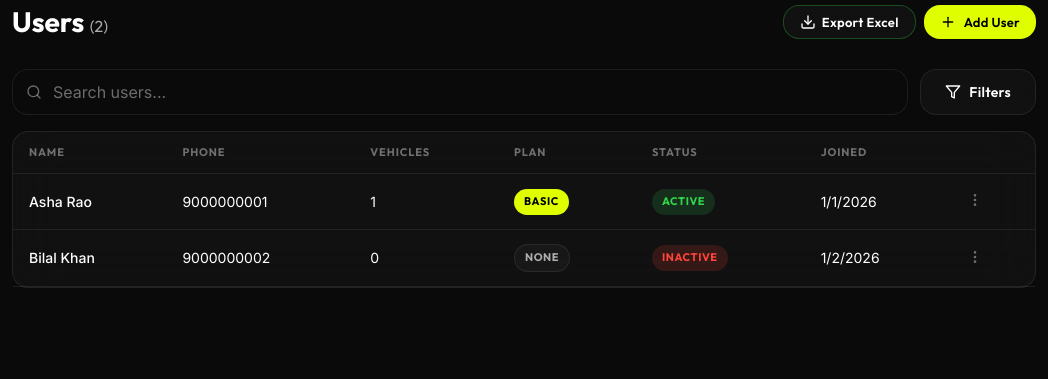
Test case: Admin Users — action menu spacing (bugs 25/29) › renders menu items using the gap-10 utility between icon and label
Expected: the text "Asha Rao" is shown, 13,174 -> 166,230
// Open the row action menu (the MoreVertical trigger is the last button in the row)
Click the button without text in the row of "Asha Rao": click(975, 202) 963,188 -> 987,215
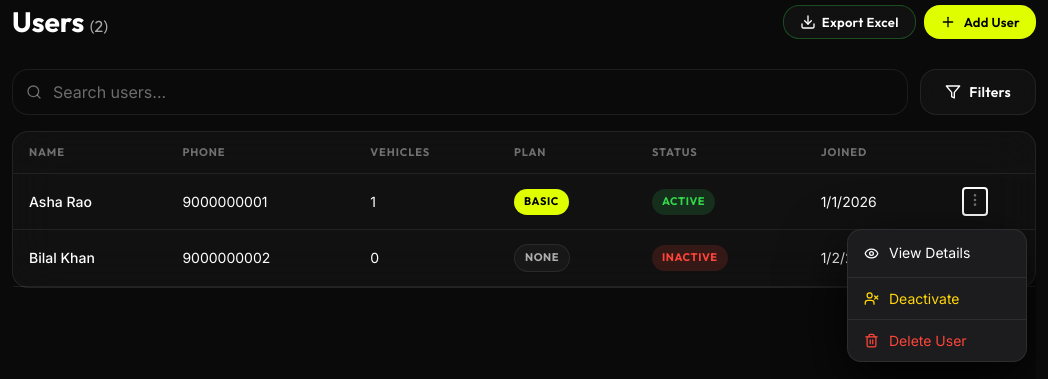
Result: the button "Delete User" is shown at 848,320 -> 1026,361
